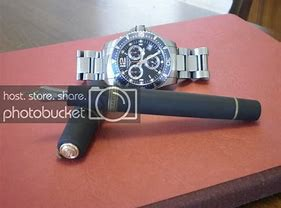pen: (28, 88, 269, 121)
